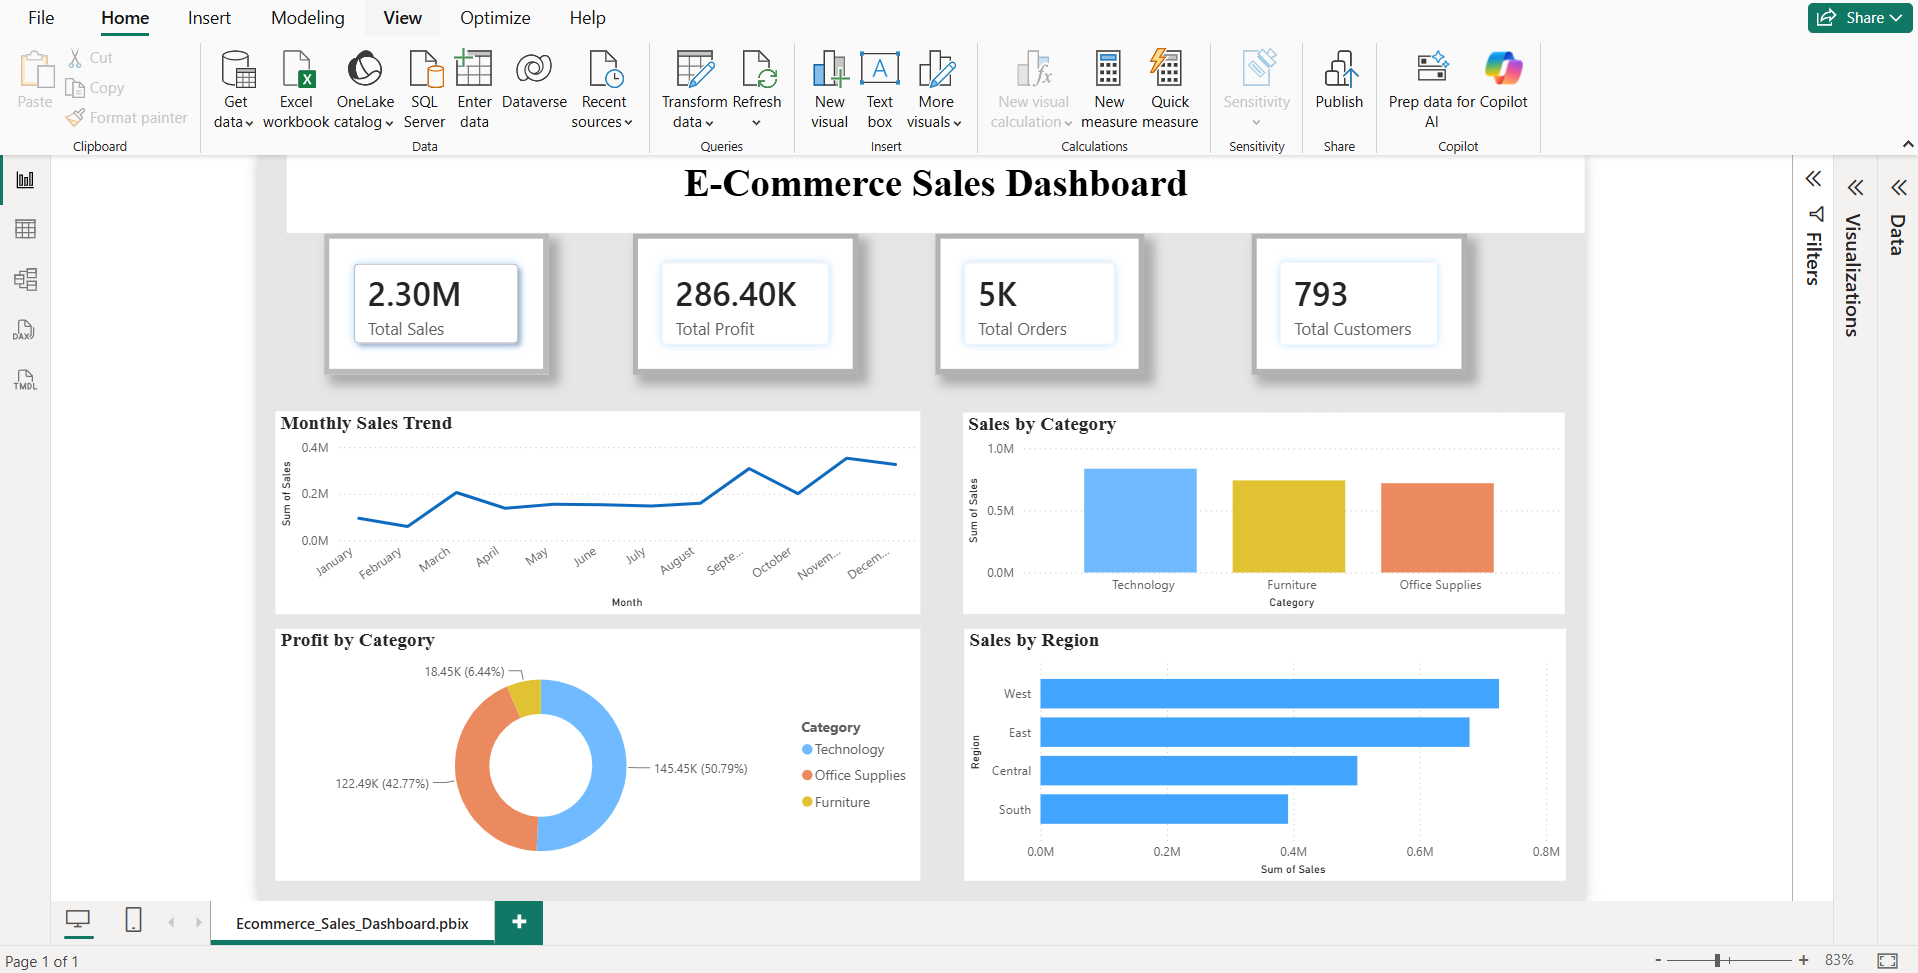

The page's visual inventory and layout, read from the dashboard file:
{"tool":"powerbi","page":{"name":"Ecommerce_Sales_Dashboard.pbix","canvas":[1280,720],"ordinal":0},"visuals":[{"type":"cardVisual","fields":{"Data":["Sales_Data.Total Sales"]},"box":[63.6,75.8,216.4,135.7],"z":0},{"type":"cardVisual","fields":{"Data":["Sales_Data.Total Profit"]},"box":[362,75.8,217.7,135.7],"z":1},{"type":"cardVisual","fields":{"Data":["Sales_Data.Total Customers"]},"box":[958.7,75.8,207.9,135.7],"z":2},{"type":"cardVisual","fields":{"Data":["Sales_Data.Total Orders"]},"box":[654.2,75.8,201.8,135.7],"z":3},{"type":"textbox","box":[27.4,0,1252.8,75.5],"z":4},{"type":"lineChart","title":"Monthly Sales Trend","fields":{"Category":["Sales_Data.Month"],"Y":["Sum(Sales_Data.Sales)"]},"box":[17.1,247,622.4,195.7],"z":5},{"type":"clusteredColumnChart","title":"Sales by Category","fields":{"Category":["Sales_Data.Category"],"Y":["Sum(Sales_Data.Sales)"]},"box":[679.9,248.2,580.8,194.4],"z":6},{"type":"donutChart","title":"Profit by Category","fields":{"Category":["Sales_Data.Category"],"Y":["Sum(Sales_Data.Profit)"]},"box":[17.1,457.3,622.4,243.3],"z":7},{"type":"barChart","title":"Sales by Region","fields":{"Category":["Sales_Data.Region"],"Y":["Sum(Sales_Data.Sales)"]},"box":[681.1,457.3,580.8,243.3],"z":8}]}

Visuals, with their boxes on the page's 1280x720 design canvas (x1, y1, x2, y2). These are canvas units, not pixel positions in the 1918x973 screenshot, which may show the page scaled, cropped or inside an application window:
cardVisual - Sales_Data.Total Sales: (x1=64, y1=76, x2=280, y2=212)
cardVisual - Sales_Data.Total Profit: (x1=362, y1=76, x2=580, y2=212)
cardVisual - Sales_Data.Total Customers: (x1=959, y1=76, x2=1167, y2=212)
cardVisual - Sales_Data.Total Orders: (x1=654, y1=76, x2=856, y2=212)
textbox: (x1=27, y1=0, x2=1280, y2=76)
"Monthly Sales Trend" lineChart: (x1=17, y1=247, x2=640, y2=443)
"Sales by Category" clusteredColumnChart: (x1=680, y1=248, x2=1261, y2=443)
"Profit by Category" donutChart: (x1=17, y1=457, x2=640, y2=701)
"Sales by Region" barChart: (x1=681, y1=457, x2=1262, y2=701)
